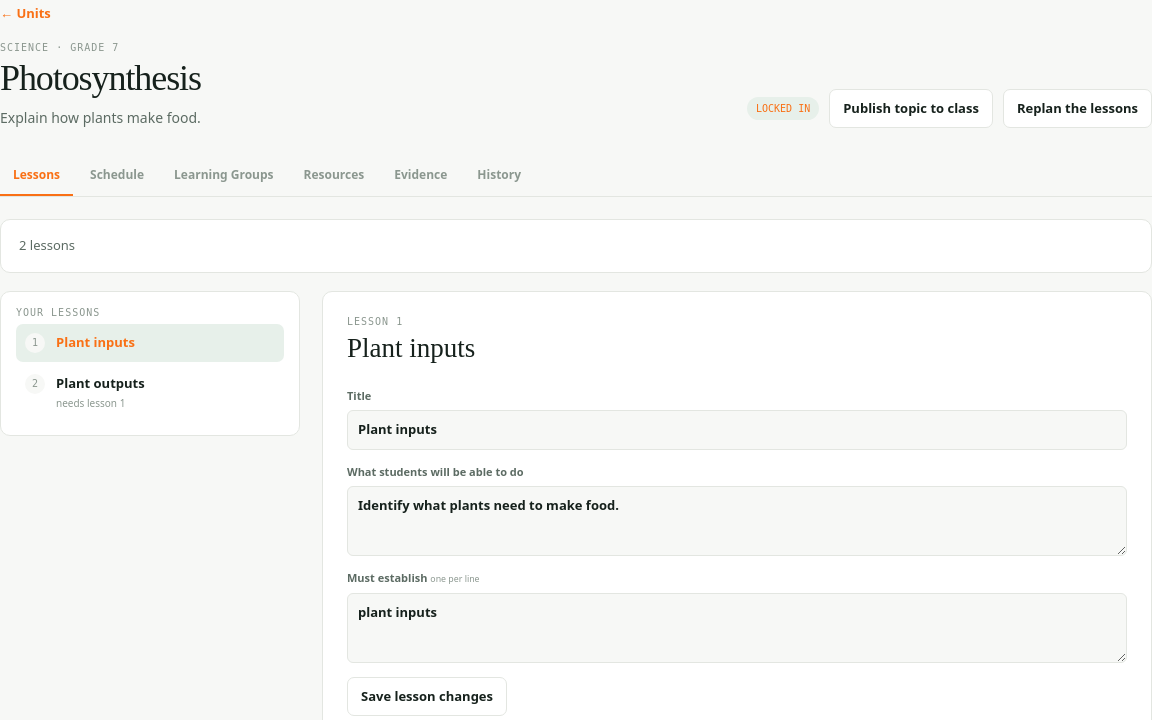
/units/[id] › publishes a topic to a class: generated lessons checked, not-generated disabled, per-lesson results shown
Click the button "Publish topic to class".
click(911, 108)  # box [829,89,993,128]
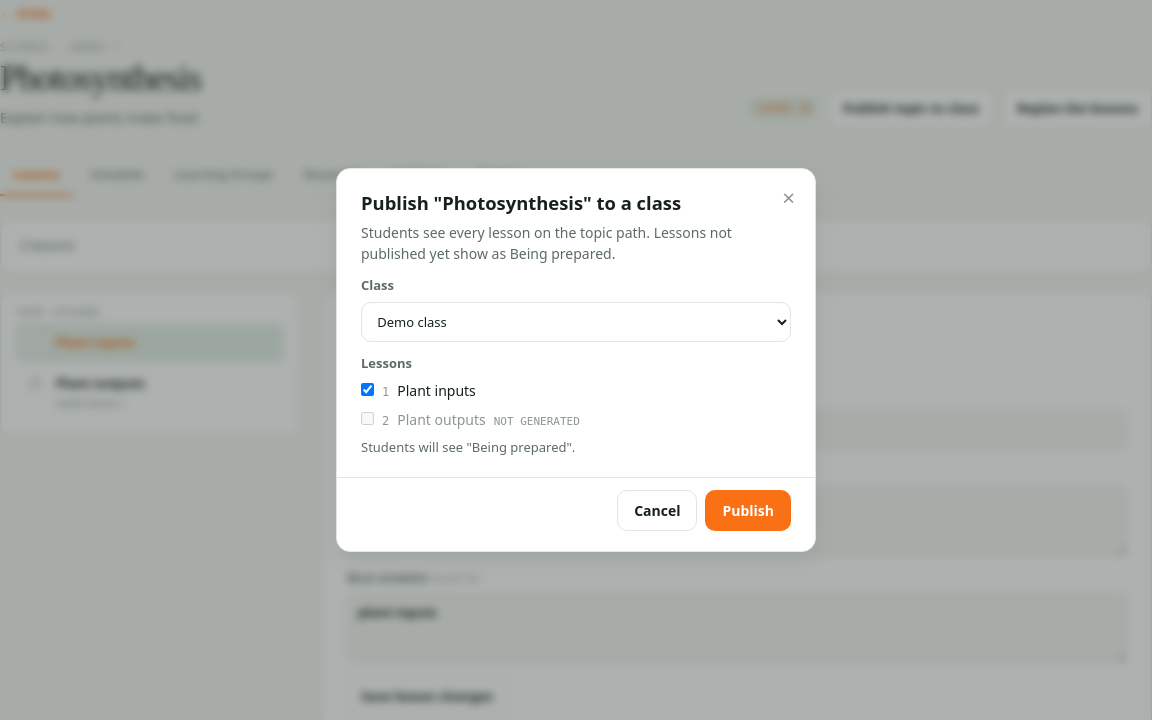
Expected: the text "not generated" is shown, [494,415,580,428]
Expected: the checkbox labelled "1 Plant inputs" is checked, [361,383,374,396]
Expected: the 2nd checkbox is not checked, [361,412,374,425]
Click the button "Publish".
click(748, 510)  # box [705,490,791,531]
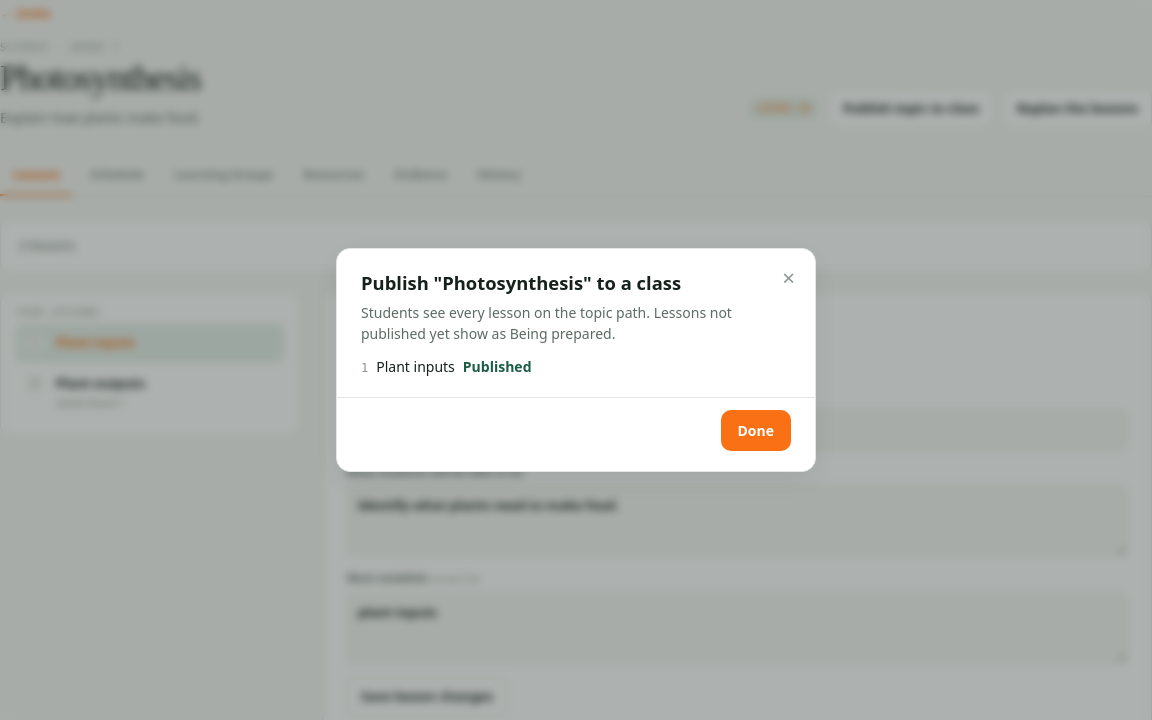
Expected: the text "Published" is shown, [463,356,532,377]
